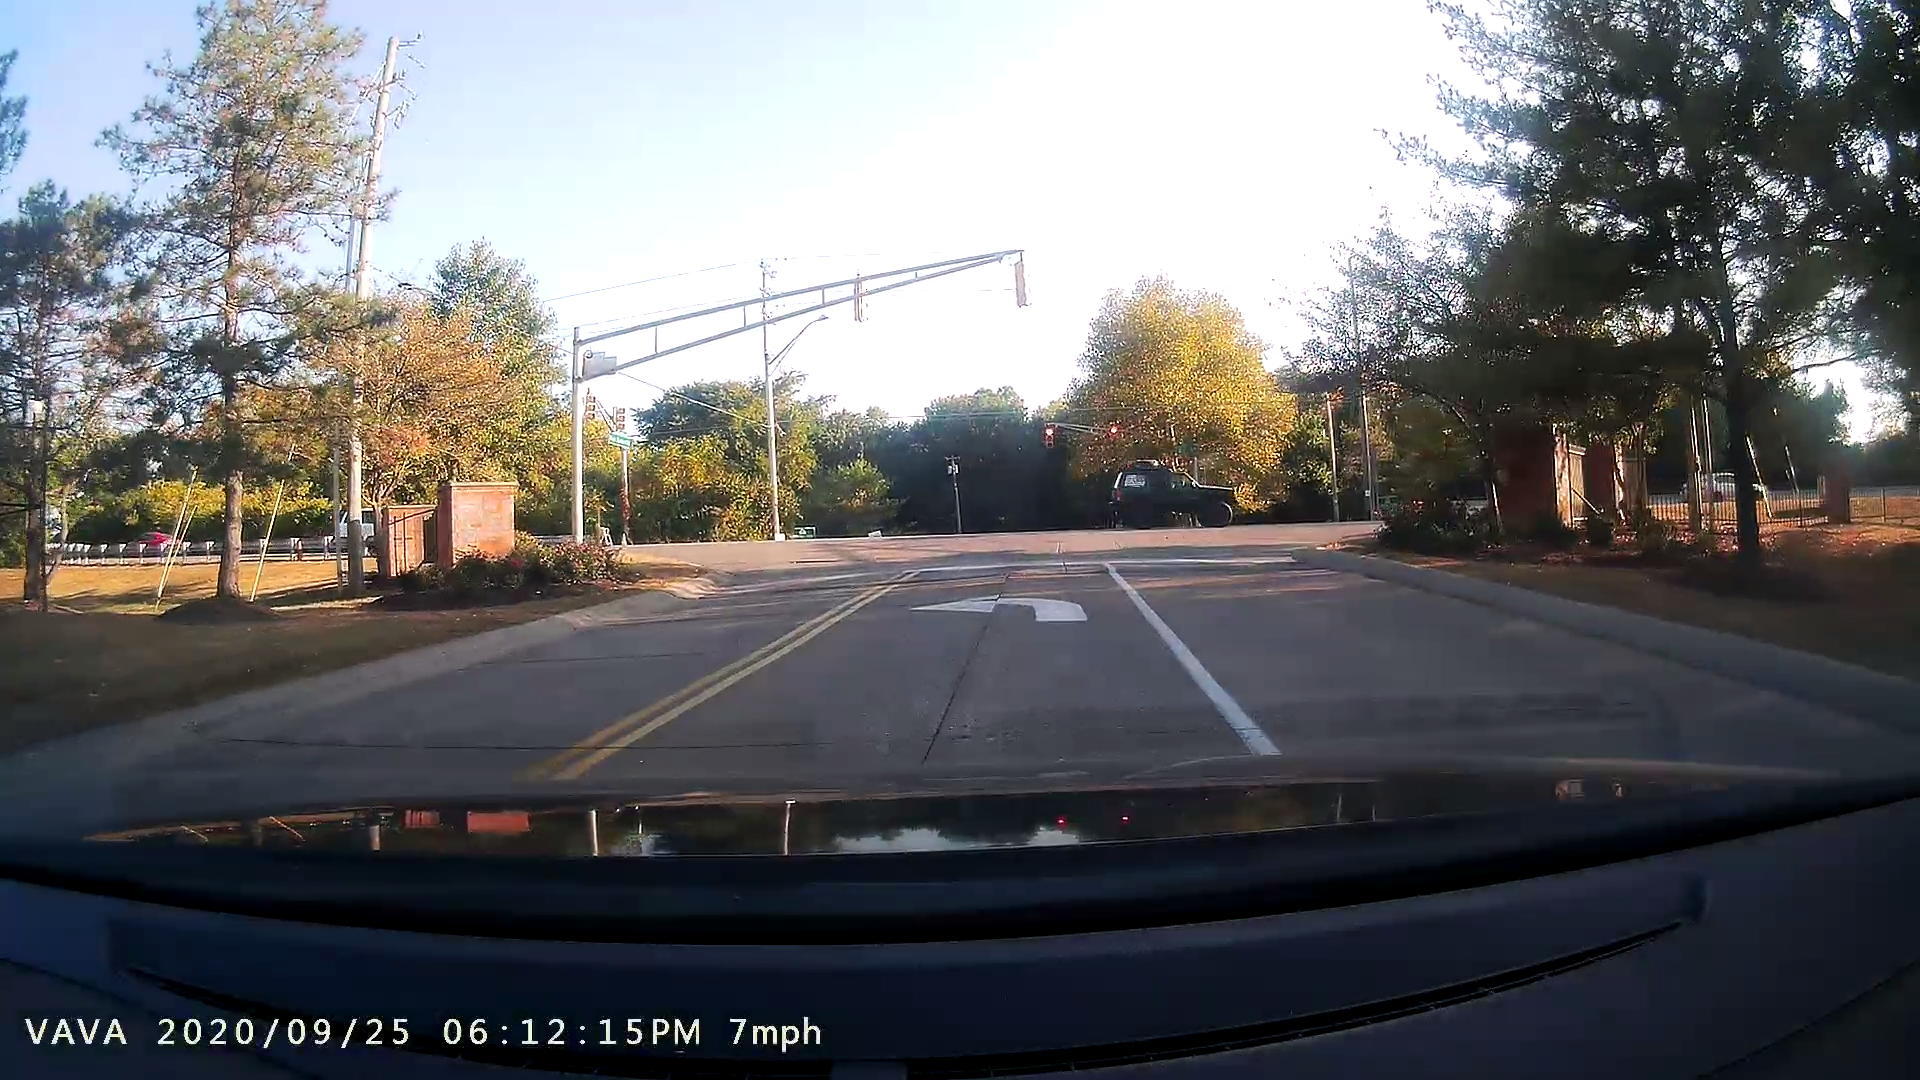left_turn: (897, 589, 1096, 632)
